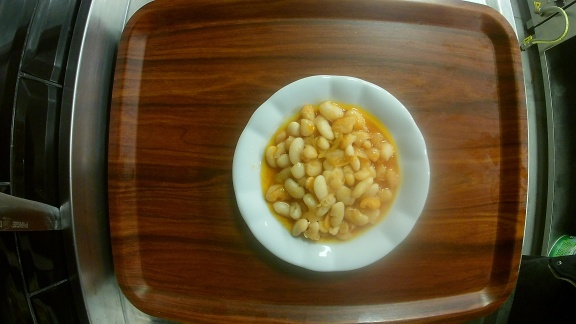kurufasulye: (232, 73, 430, 274)
